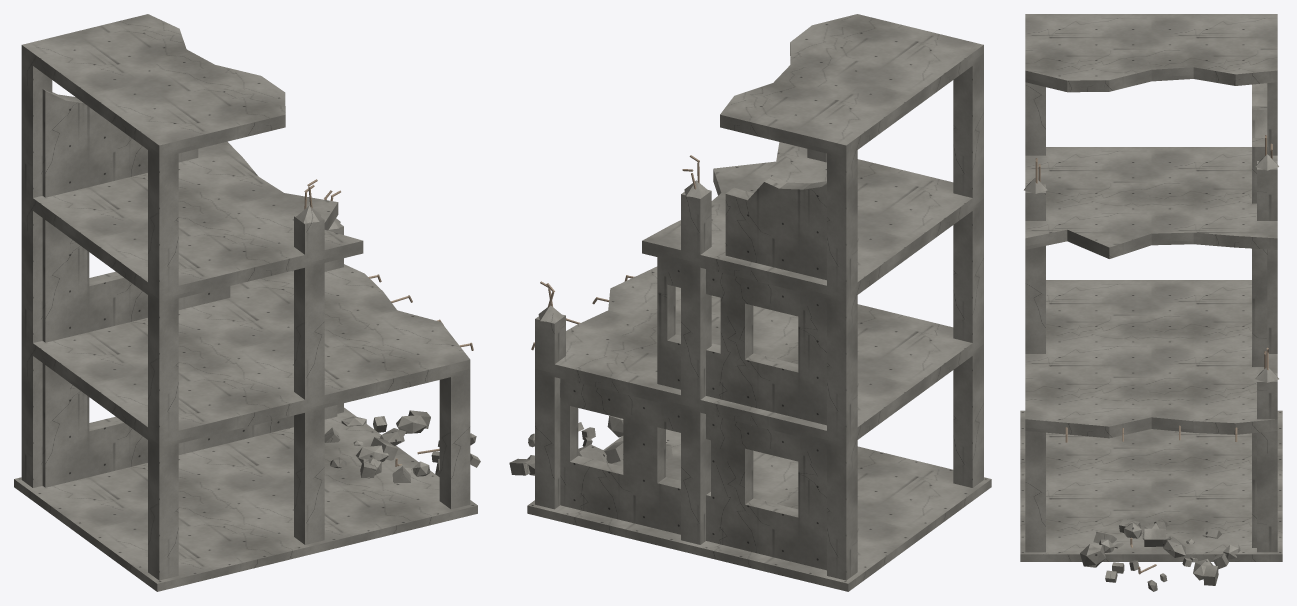
The model's file is Building_Frame_3F.fbx.
3 views of the same model, side by side, from view 1: azimuth 30°, elevation 25°; view 2: azimuth 150°, elevation 25°; view 3: azimuth 270°, elevation 25° (orthographic). The views are drawn at different scales.
Visible parts, largest first — view 1: Building_Frame_3F; view 2: Building_Frame_3F; view 3: Building_Frame_3F.
Part boxes in pixels (box(x1,y1,x2,y2)): Building_Frame_3F: box(14, 14, 480, 591); Building_Frame_3F: box(509, 14, 991, 591); Building_Frame_3F: box(1020, 14, 1282, 591).
Bounding box in the file's own units: 8.04 × 8.74 × 5.1.
Materials: 2 (1 with a texture image).
